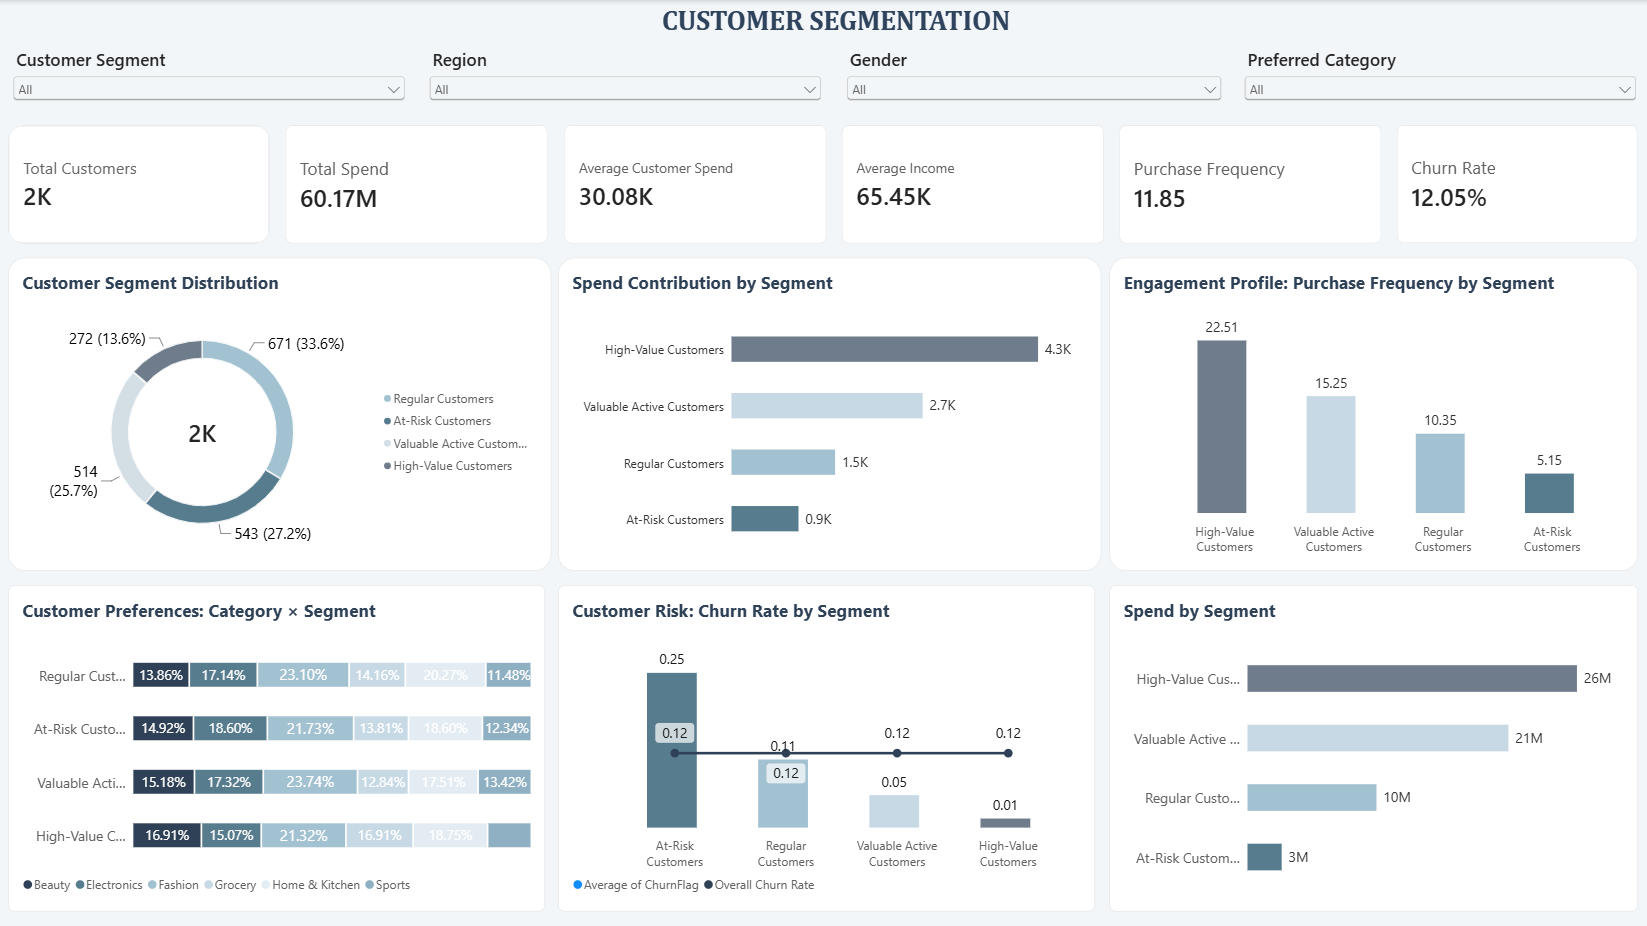

The page's visual inventory and layout, read from the dashboard file:
{"tool":"powerbi","page":{"name":"Page 1","canvas":[1920,1080],"ordinal":0},"visuals":[{"type":"textbox","box":[745,5,460,45],"z":0},{"type":"slicer","fields":{"Values":["customer_segmentation_final.CustomerSegment"]},"box":[12.5,55,465,70],"z":1000},{"type":"slicer","fields":{"Values":["customer_segmentation_final.Region"]},"box":[497,55,465,70],"z":2000},{"type":"slicer","fields":{"Values":["customer_segmentation_final.Gender"]},"box":[982.5,55,445,70],"z":3000},{"type":"slicer","fields":{"Values":["customer_segmentation_final.PreferredCategory"]},"box":[1445,55,465,70],"z":4000},{"type":"cardVisual","title":"TOTAL CUSTOMERS","fields":{"Data":["Count(customer_segmentation_final.CustomerID)"]},"box":[12,145,305,138],"z":5000},{"type":"cardVisual","fields":{"Data":["Sum(customer_segmentation_final.TotalSpend)"]},"box":[335,145,305,138],"z":6000},{"type":"cardVisual","fields":{"Data":["Avg(customer_segmentation_final.TotalSpend)"]},"box":[658,145,305,138],"z":7000},{"type":"cardVisual","fields":{"Data":["Avg(customer_segmentation_final.PurchaseFrequency)"]},"box":[1304,145,305,138],"z":8000},{"type":"cardVisual","fields":{"Data":["Avg(customer_segmentation_final.ChurnFlag)"]},"box":[1627,145,280,137],"z":9000},{"type":"donutChart","title":"Customer Segment Distribution","fields":{"Category":["customer_segmentation_final.CustomerSegment"],"Y":["CountNonNull(customer_segmentation_final.CustomerID)"]},"box":[12,300,632.3,365],"z":10000},{"type":"clusteredBarChart","title":"Spend Contribution by Segment","fields":{"Category":["customer_segmentation_final.CustomerSegment"],"Y":["Avg(customer_segmentation_final.AverageOrderValue)"]},"box":[652,300,632,365],"z":11000},{"type":"cardVisual","fields":{"Data":["Avg(customer_segmentation_final.AnnualIncome)"]},"box":[981,145,305,138],"z":12000},{"type":"clusteredColumnChart","title":"Engagement Profile: Purchase Frequency by Segment","fields":{"Category":["customer_segmentation_final.CustomerSegment"],"Y":["Avg(customer_segmentation_final.PurchaseFrequency)"]},"box":[1292.5,300,615,365],"z":13000},{"type":"hundredPercentStackedBarChart","title":"Customer Preferences: Category × Segment","fields":{"Category":["customer_segmentation_final.CustomerSegment"],"Y":["CountNonNull(customer_segmentation_final.CustomerID)"],"Series":["customer_segmentation_final.PreferredCategory"]},"box":[12,680,625,380],"z":14000},{"type":"lineClusteredColumnComboChart","title":"Customer Risk: Churn Rate by Segment","fields":{"Category":["customer_segmentation_final.CustomerSegment"],"Y":["Avg(customer_segmentation_final.ChurnFlag)"],"Y2":["customer_segmentation_final.Overall Churn Rate"]},"box":[652,680,625,380],"z":15000},{"type":"clusteredBarChart","title":"Spend by Segment","fields":{"Category":["customer_segmentation_final.CustomerSegment"],"Y":["Sum(customer_segmentation_final.TotalSpend)"]},"box":[1292.5,680,615,380],"z":16000}]}

Visuals, with their boxes in screenshot pixels (x1, y1, x2, y2), scaled from the page's 1920x1080 canvas onto the 1647x926 screenshot:
textbox: x1=639, y1=4, x2=1034, y2=43
slicer - customer_segmentation_final.CustomerSegment: x1=11, y1=47, x2=410, y2=107
slicer - customer_segmentation_final.Region: x1=426, y1=47, x2=825, y2=107
slicer - customer_segmentation_final.Gender: x1=843, y1=47, x2=1225, y2=107
slicer - customer_segmentation_final.PreferredCategory: x1=1240, y1=47, x2=1638, y2=107
"TOTAL CUSTOMERS" cardVisual: x1=10, y1=124, x2=272, y2=243
cardVisual - Sum(customer_segmentation_final.TotalSpend): x1=287, y1=124, x2=549, y2=243
cardVisual - Avg(customer_segmentation_final.TotalSpend): x1=564, y1=124, x2=826, y2=243
cardVisual - Avg(customer_segmentation_final.PurchaseFrequency): x1=1119, y1=124, x2=1380, y2=243
cardVisual - Avg(customer_segmentation_final.ChurnFlag): x1=1396, y1=124, x2=1636, y2=242
"Customer Segment Distribution" donutChart: x1=10, y1=257, x2=553, y2=570
"Spend Contribution by Segment" clusteredBarChart: x1=559, y1=257, x2=1101, y2=570
cardVisual - Avg(customer_segmentation_final.AnnualIncome): x1=842, y1=124, x2=1103, y2=243
"Engagement Profile: Purchase Frequency by Segment" clusteredColumnChart: x1=1109, y1=257, x2=1636, y2=570
"Customer Preferences: Category × Segment" hundredPercentStackedBarChart: x1=10, y1=583, x2=546, y2=909
"Customer Risk: Churn Rate by Segment" lineClusteredColumnComboChart: x1=559, y1=583, x2=1095, y2=909
"Spend by Segment" clusteredBarChart: x1=1109, y1=583, x2=1636, y2=909
